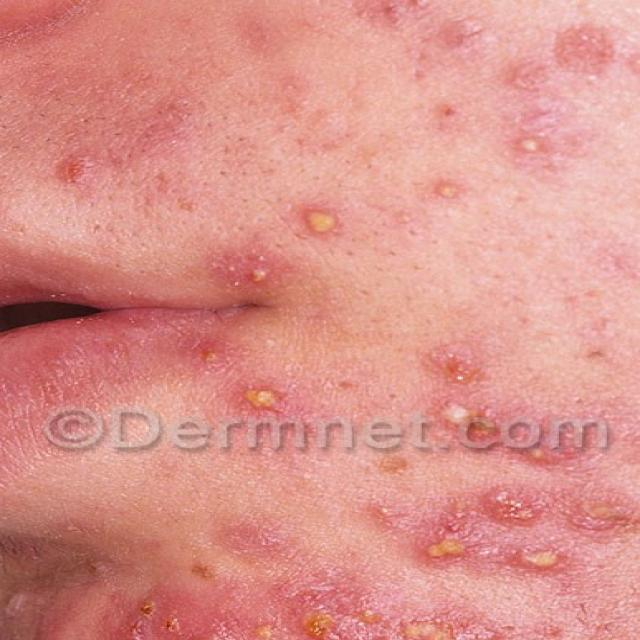Acne: (0, 545, 567, 640), (375, 360, 640, 536), (339, 0, 620, 161), (167, 327, 326, 441), (9, 133, 128, 237), (267, 183, 366, 247)
